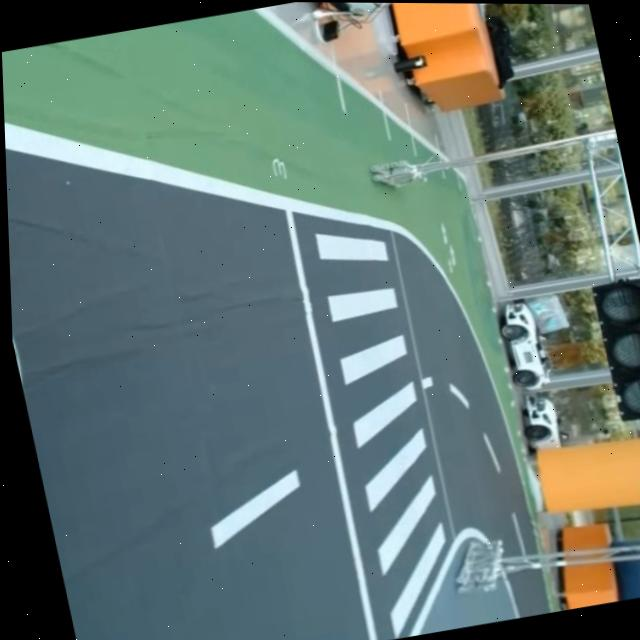traffic-light: (586, 272, 640, 429)
